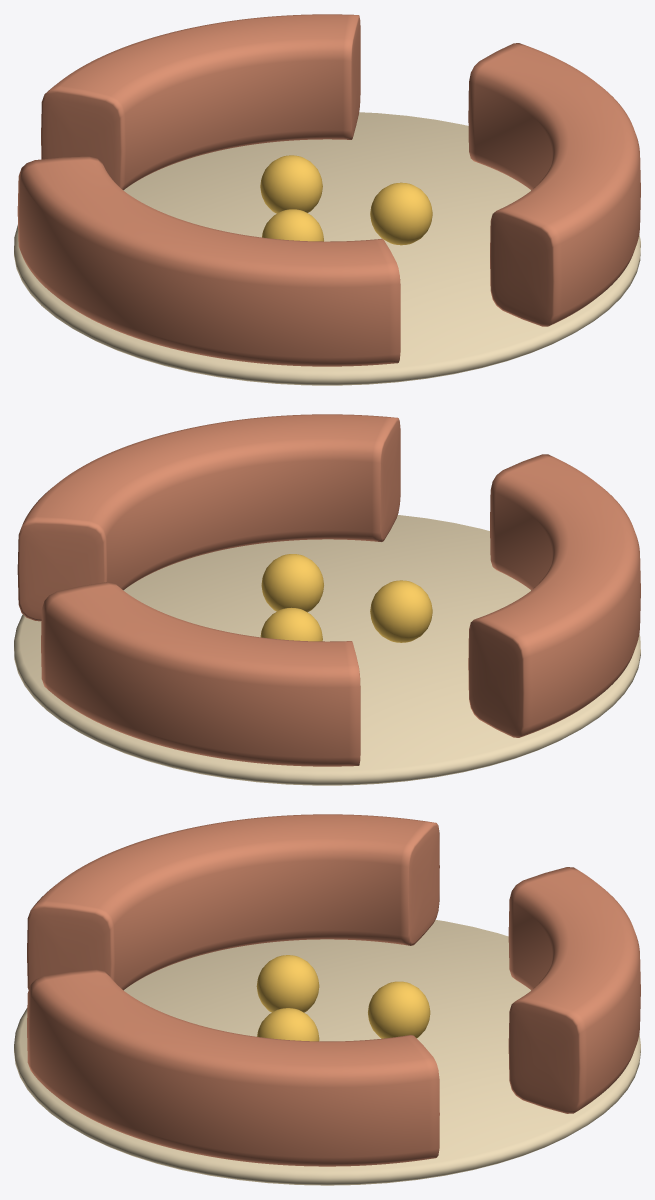
File: building_bowl_v02_display.glb
3 renders of one model, top to bottom at view 1: azimuth 30°, elevation 25°; view 2: azimuth 150°, elevation 25°; view 3: azimuth 270°, elevation 25°, orthographic.
Visible parts, largest first — view 1: bowl_floor, bowl_rim_b, bowl_rim_a, bowl_rim_c, display_energy_mote_b, display_energy_mote_c, display_energy_mote_a; view 2: bowl_floor, bowl_rim_c, bowl_rim_a, bowl_rim_b, display_energy_mote_a, display_energy_mote_b, display_energy_mote_c; view 3: bowl_rim_c, bowl_rim_b, bowl_floor, bowl_rim_a, display_energy_mote_c, display_energy_mote_a, display_energy_mote_b.
Boxes of the visible parts, box(x1,y1,x2,y2) form: bowl_floor: box(14, 112, 640, 385); bowl_rim_b: box(17, 156, 400, 366); bowl_rim_a: box(41, 14, 360, 190); bowl_rim_c: box(468, 43, 640, 326); display_energy_mote_b: box(370, 182, 432, 245); display_energy_mote_c: box(260, 155, 322, 213); display_energy_mote_a: box(262, 209, 323, 241); bowl_floor: box(14, 515, 640, 785); bowl_rim_c: box(17, 414, 400, 621); bowl_rim_a: box(41, 582, 360, 766); bowl_rim_b: box(468, 454, 640, 737); display_energy_mote_a: box(370, 580, 432, 642); display_energy_mote_b: box(261, 554, 323, 612); display_energy_mote_c: box(260, 607, 322, 641); bowl_rim_c: box(27, 969, 439, 1166); bowl_rim_b: box(27, 814, 439, 990); bowl_floor: box(14, 920, 640, 1185); bowl_rim_a: box(508, 867, 640, 1113); display_energy_mote_c: box(368, 981, 430, 1038); display_energy_mote_a: box(256, 955, 319, 1012); display_energy_mote_b: box(257, 1008, 319, 1041).
Bounding box in the file's own units: 7 × 1.43 × 7.
